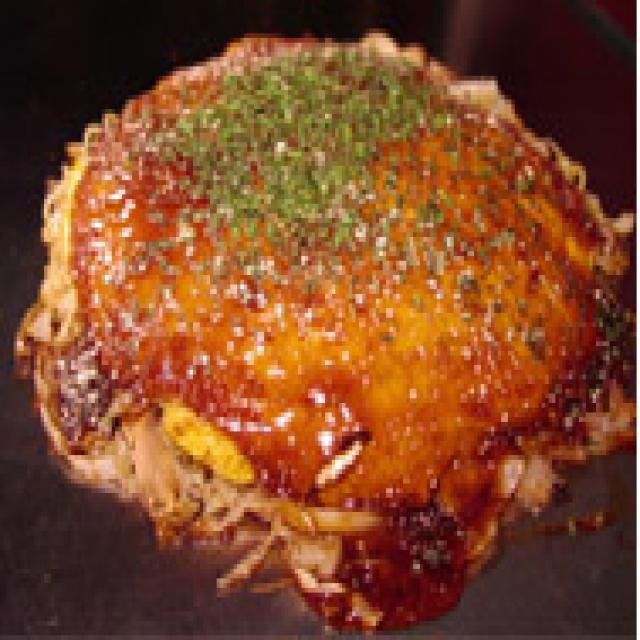蛋糕甜品: (0, 0, 616, 640)
